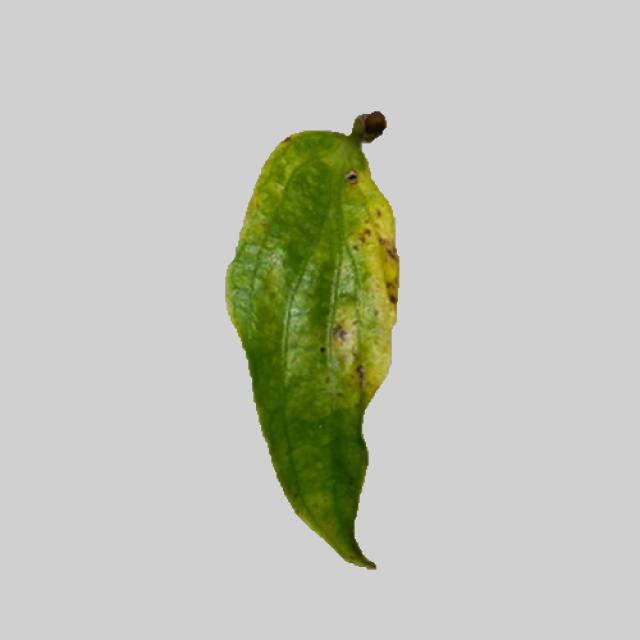yellow-mottle-virus: (200, 118, 406, 570)
